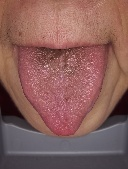tongue: (17, 51, 109, 137)
